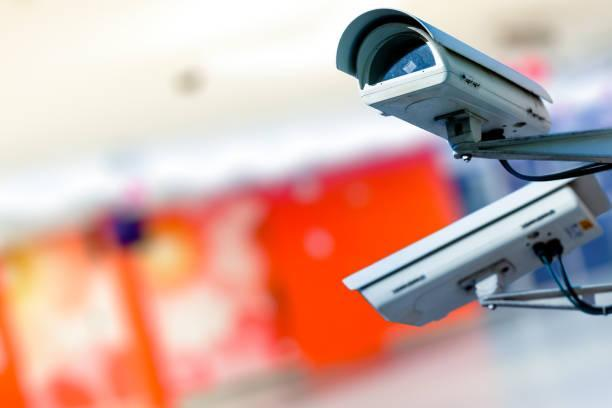camera: (305, 161, 612, 342), (311, 5, 559, 161)
